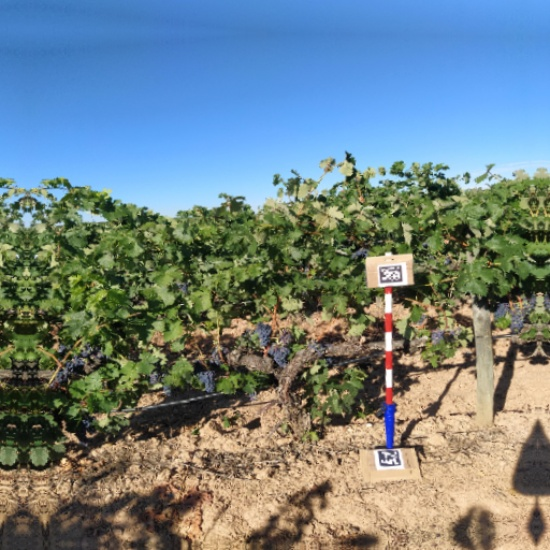QR: (377, 264, 405, 285), (377, 447, 401, 468)
